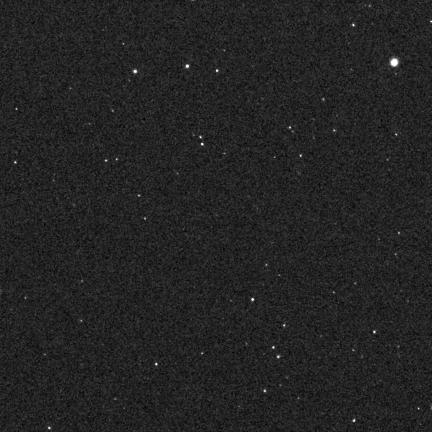blob: (390, 58, 400, 68), (133, 70, 137, 74)
